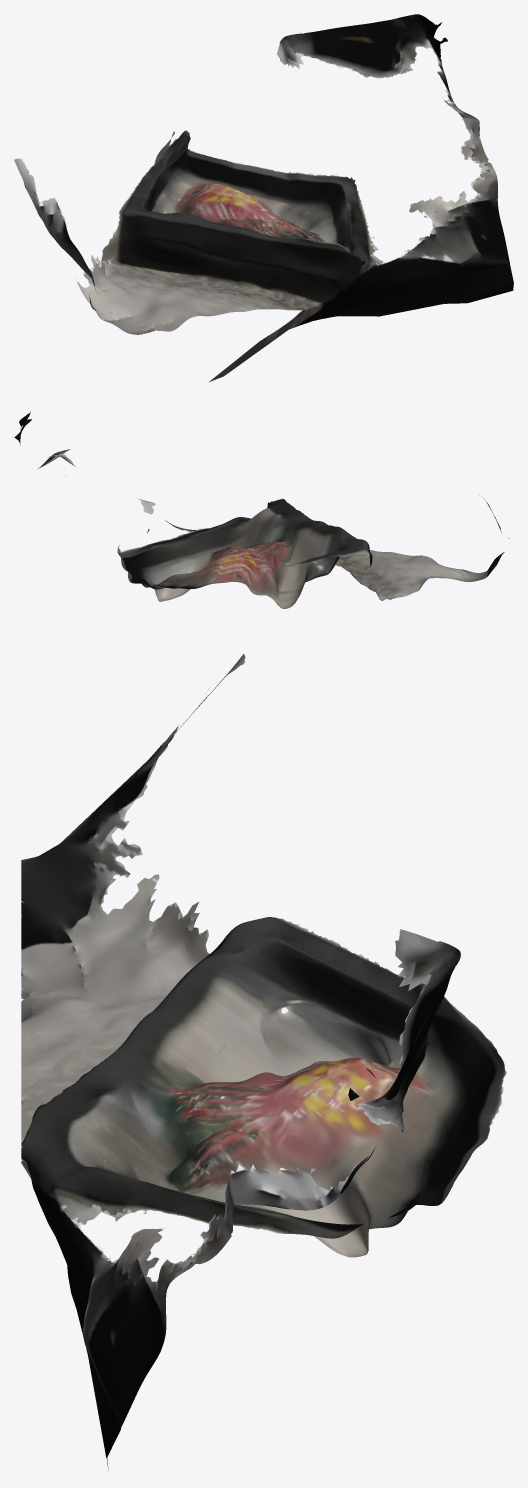
The picture shows the model from 3 angles, top to bottom: view 1: azimuth 30°, elevation 25°; view 2: azimuth 150°, elevation 25°; view 3: azimuth 270°, elevation 25°; orthographic projection. The views are drawn at different scales.
Size of the model in its own units: 0.8853 by 0.397 by 0.4344.
Materials: 1 (1 with a texture image).
